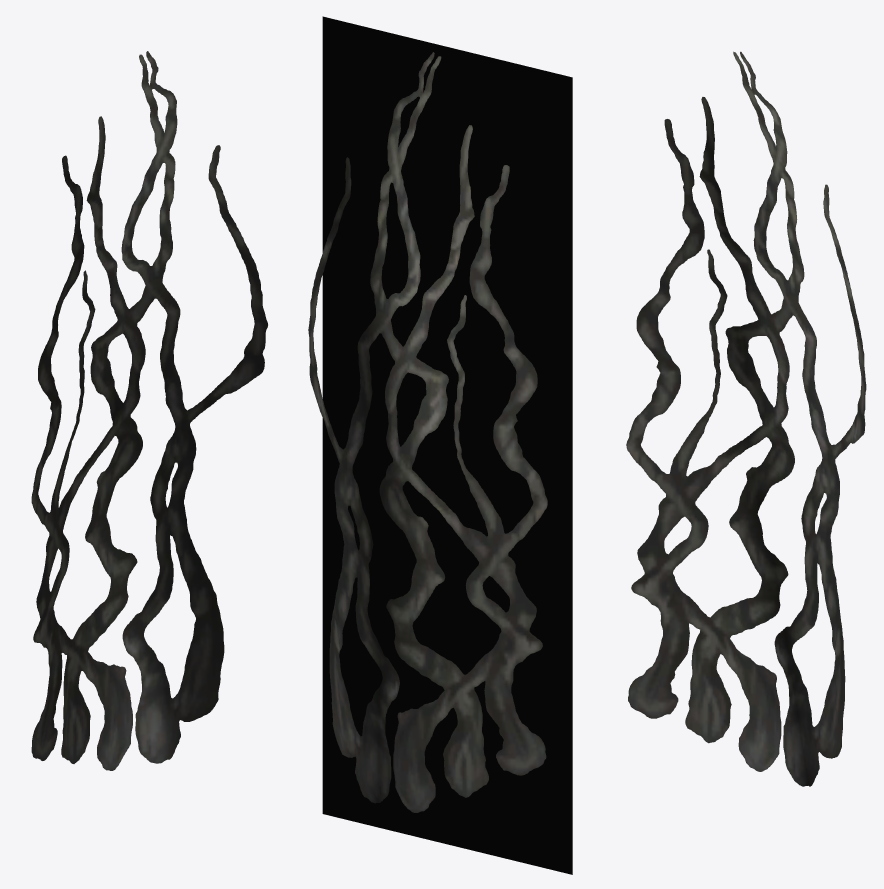
The model's file is INST_TROLLHOLE_CLIMBABLEVINEA.obj.
3 renders of one model, left to right at view 1: azimuth 30°, elevation 25°; view 2: azimuth 150°, elevation 25°; view 3: azimuth 330°, elevation 25°, orthographic.
Visible parts, largest first — view 1: leVineA_Lod1_01; view 2: leVineA_Lod1_01; view 3: leVineA_Lod1_01.
Boxes of the visible parts, left/top/right/bottom form: leVineA_Lod1_01: left=31, top=51, right=267, bottom=770; leVineA_Lod1_01: left=308, top=16, right=572, bottom=874; leVineA_Lod1_01: left=626, top=51, right=866, bottom=786.
Bounding box in the file's own units: 139 × 399 × 30.97.
